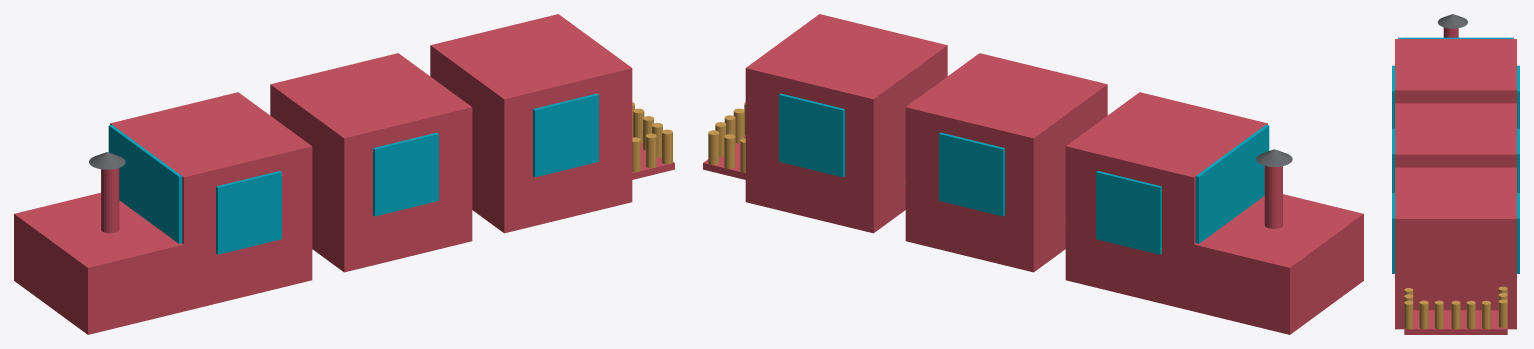
File: Train.glb
3 views of the same model, side by side, from view 1: azimuth 30°, elevation 25°; view 2: azimuth 150°, elevation 25°; view 3: azimuth 270°, elevation 25° (orthographic). The views are drawn at different scales.
Parts seen in each view (by area): view 1: Mesh_Mesh_head_geo.001_lambert2SG.001; view 2: Mesh_Mesh_head_geo.001_lambert2SG.001; view 3: Mesh_Mesh_head_geo.001_lambert2SG.001.
Boxes of the visible parts, x1=… form: Mesh_Mesh_head_geo.001_lambert2SG.001: x1=14, y1=14, x2=674, y2=334; Mesh_Mesh_head_geo.001_lambert2SG.001: x1=703, y1=14, x2=1363, y2=334; Mesh_Mesh_head_geo.001_lambert2SG.001: x1=1392, y1=14, x2=1519, y2=334.
Size of the model in its own units: 185 by 43 by 42.
